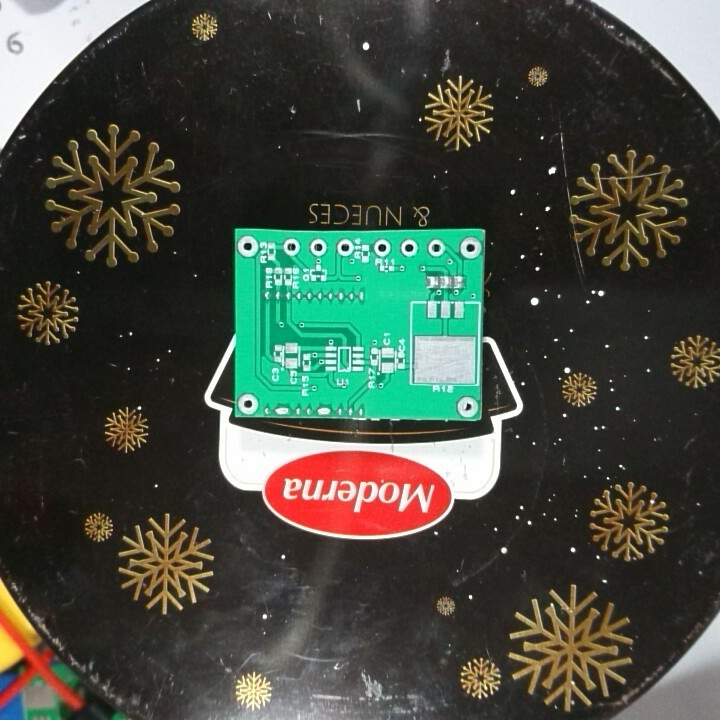F: (235, 233, 259, 260), (236, 392, 263, 415), (457, 236, 482, 260), (454, 395, 479, 418), (397, 236, 419, 260), (280, 236, 302, 258), (333, 237, 356, 258), (424, 237, 445, 260), (371, 237, 394, 257), (307, 237, 328, 258)
P: (271, 400, 291, 418), (313, 404, 334, 419)
